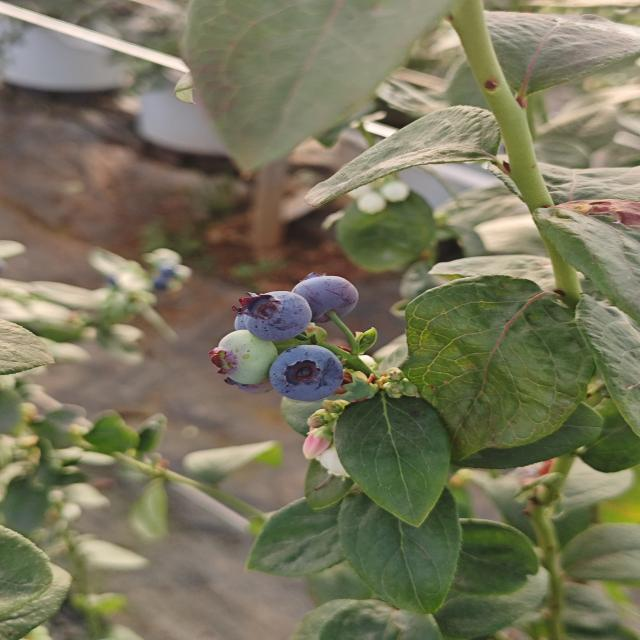ripe: (266, 343, 346, 403), (234, 289, 314, 343), (290, 273, 361, 324)
